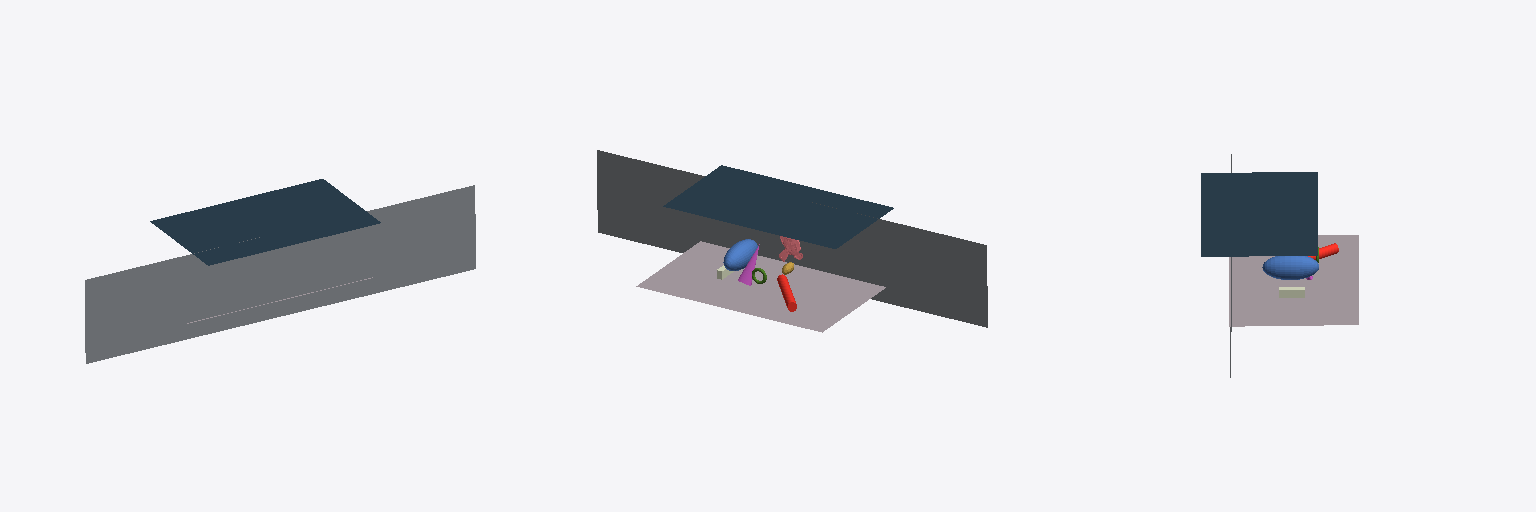
3 renders of one model, left to right at view 1: azimuth 30°, elevation 25°; view 2: azimuth 150°, elevation 25°; view 3: azimuth 270°, elevation 25°, orthographic.
Parts seen in each view (by area): view 1: back_栅格, sky_平面.002; view 2: back_栅格, plane_平面.001, sky_平面.002, sphere_球体; view 3: sky_平面.002, plane_平面.001, sphere_球体.
Part boxes in pixels (x1,y1,x2,y2): back_栅格: (85, 185, 475, 363); sky_平面.002: (150, 179, 380, 265); back_栅格: (597, 150, 987, 327); plane_平面.001: (636, 241, 885, 332); sky_平面.002: (663, 165, 893, 248); sphere_球体: (723, 239, 757, 270); sky_平面.002: (1201, 172, 1317, 256); plane_平面.001: (1229, 235, 1358, 326); sphere_球体: (1262, 256, 1318, 279).
Size of the model in its own units: 1083 by 225 by 381.